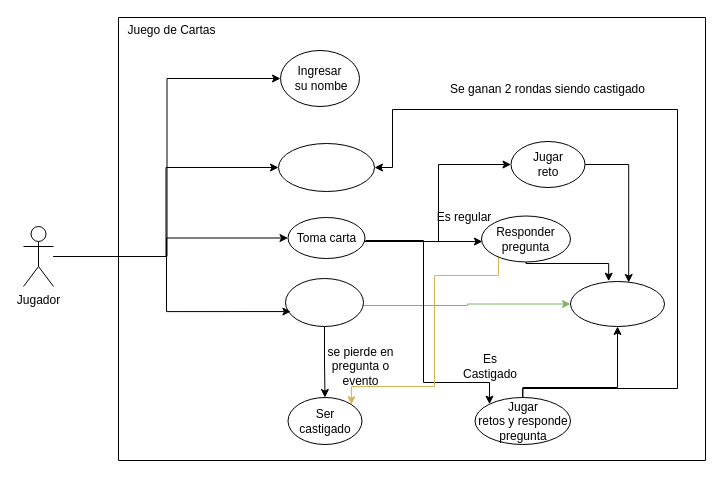
This 723x478 diagram has some shape labels left out. The box of each missing label's shape, as (x1, y1, x2, y2) in pixels:
Ganar Puntos: (570, 280, 664, 326)
Jugar Eventos: (284, 278, 364, 326)
Ser Jugador Regular: (278, 142, 374, 192)
